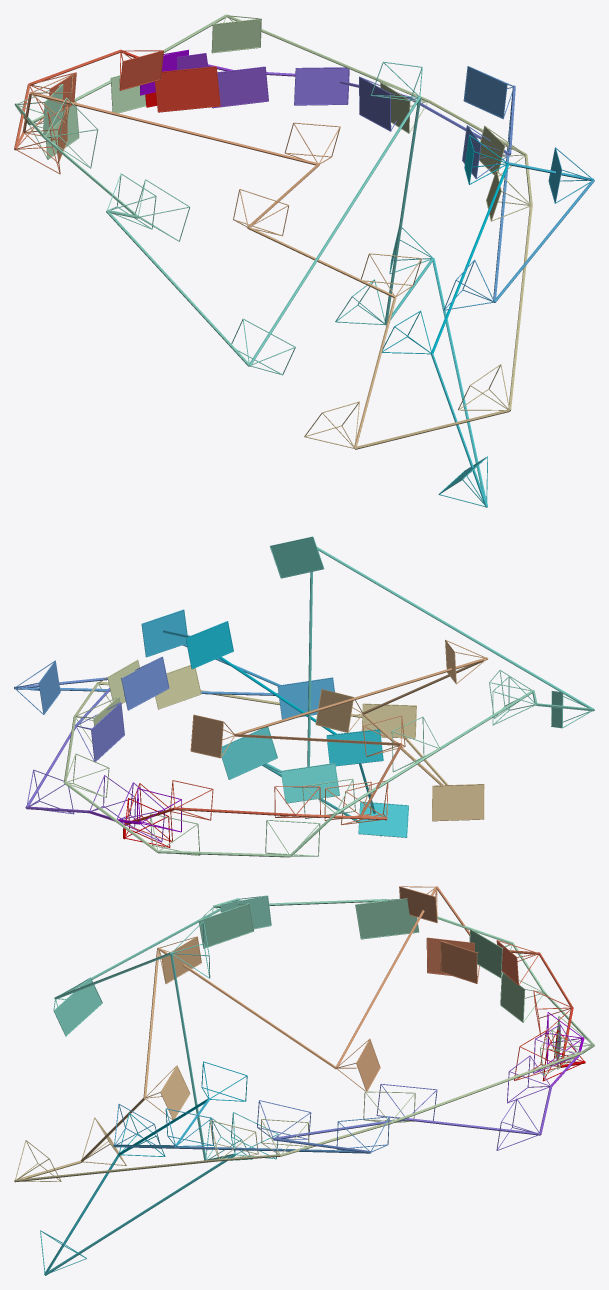
The model's file is baseline.glb.
The picture shows the model from 3 angles, top to bottom: view 1: azimuth 30°, elevation 25°; view 2: azimuth 150°, elevation 25°; view 3: azimuth 270°, elevation 25°; orthographic projection. The views are drawn at different scales.
Visible parts, largest first — view 1: frustums, trajectory; view 2: frustums, trajectory; view 3: frustums, trajectory.
Boxes of the visible parts, box(x1,y1,x2,y2) form: frustums: box(15, 15, 592, 507); trajectory: box(14, 14, 594, 507); frustums: box(14, 536, 591, 856); trajectory: box(14, 547, 594, 857); frustums: box(15, 886, 592, 1272); trajectory: box(14, 886, 594, 1275).
Bounding box in the file's own units: 1.13 × 0.8651 × 1.31.
